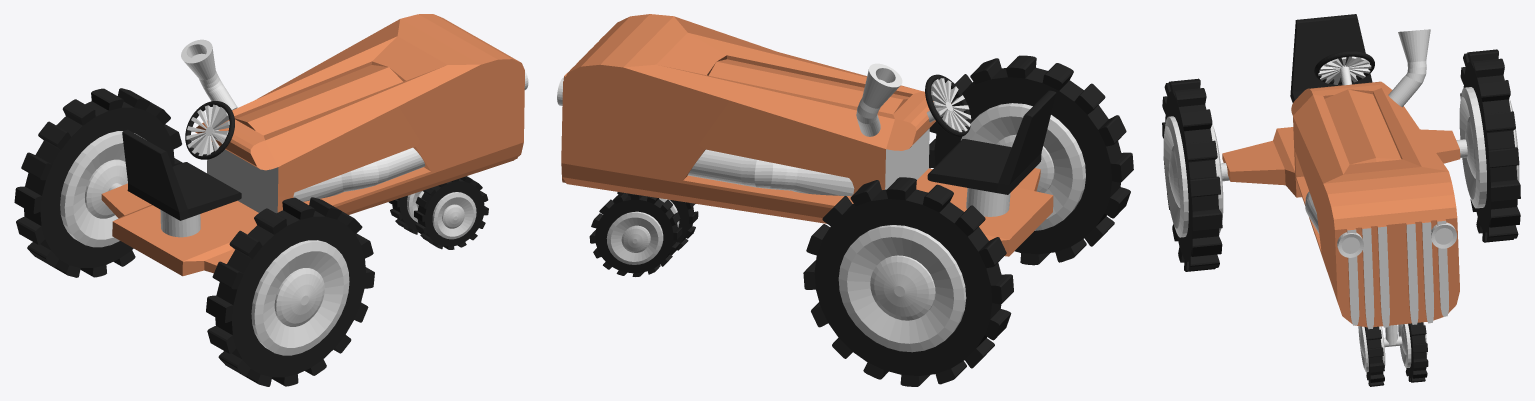
Rendered from tractor.fbx.
3 renders of one model, left to right at view 1: azimuth 30°, elevation 25°; view 2: azimuth 150°, elevation 25°; view 3: azimuth 270°, elevation 25°, orthographic. The views are drawn at different scales.
Parts seen in each view (by area): view 1: Cube; view 2: Cube; view 3: Cube.
Boxes of the visible parts, x1,y1,x2,y2 form: Cube: [14, 14, 528, 386]; Cube: [557, 14, 1133, 386]; Cube: [1162, 14, 1520, 386].
Size of the model in its own units: 549 by 298 by 392.
